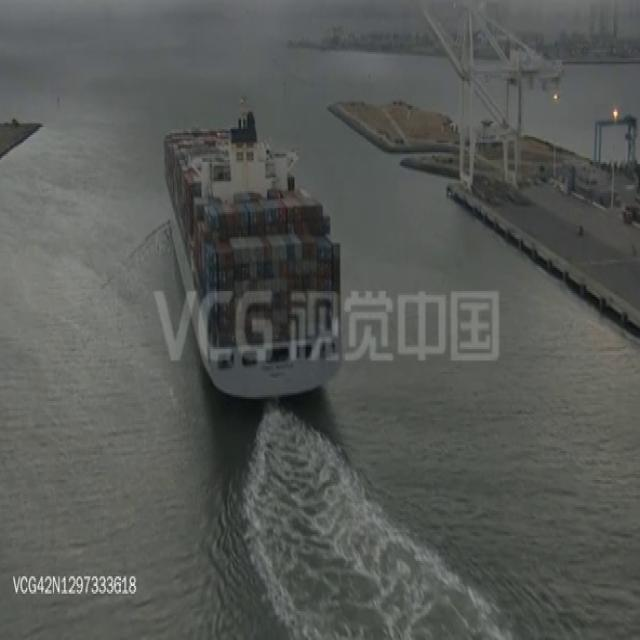cargoship: (163, 105, 340, 400)
